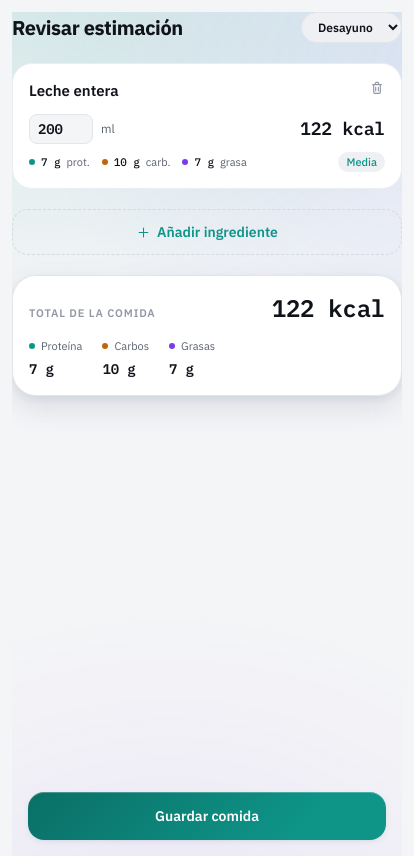
Test case: MealComposer: editar la cantidad de un ingrediente › volver a la cantidad de partida devuelve los valores de partida
Replace the text in the field named "Cantidad en ml" with "60": (61, 128) [29, 114, 93, 144]
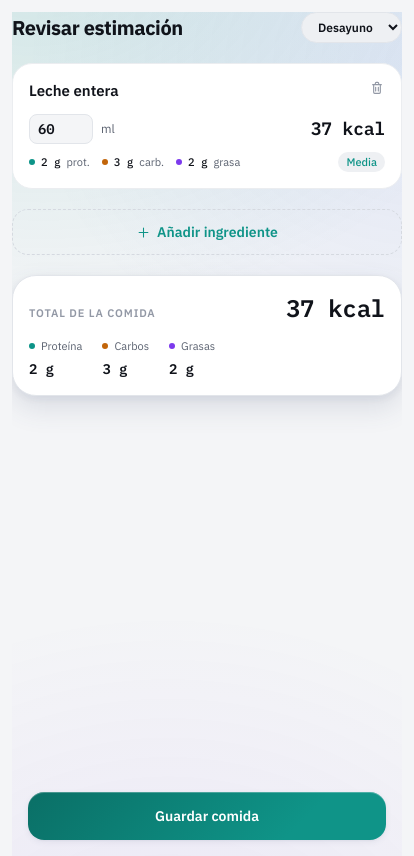
Replace the text in the field named "Cantidad en ml" with "17": (61, 128) [29, 114, 93, 144]
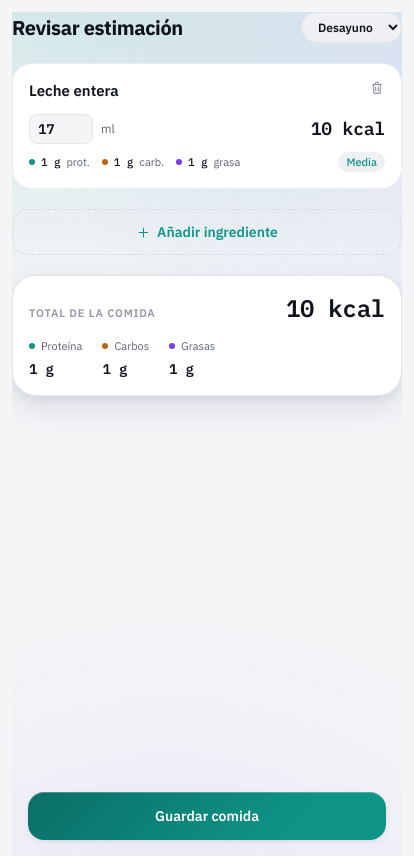
Replace the text in the field named "Cantidad en ml" with "200": (61, 128) [29, 114, 93, 144]
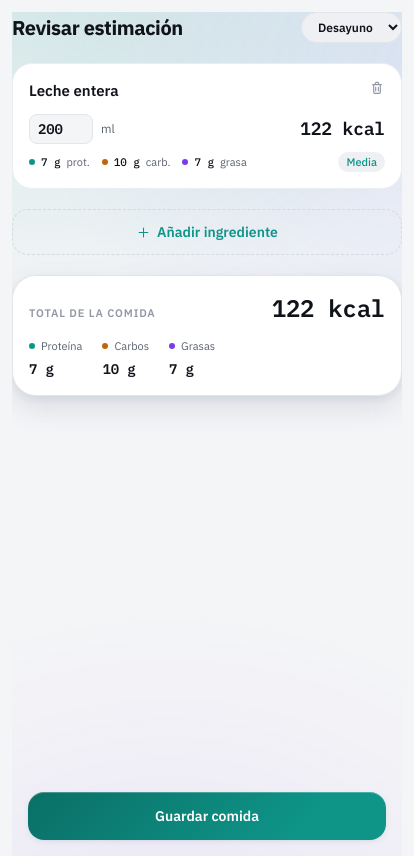
Check: the text "122 kcal" in the row of "ml" is shown, box [300, 116, 385, 140]
